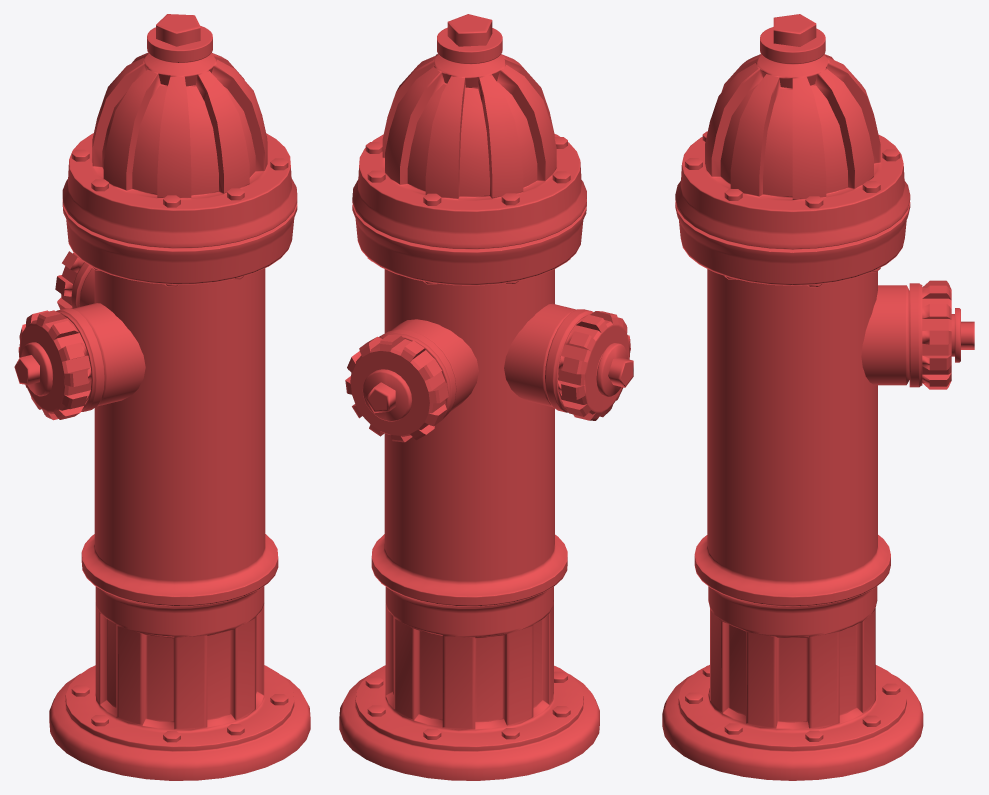
Rendered from FireHydrant.fbx.
3 renders of one model, left to right at view 1: azimuth 30°, elevation 25°; view 2: azimuth 150°, elevation 25°; view 3: azimuth 270°, elevation 25°, orthographic.
Parts seen in each view (by area): view 1: Hydrant_LOD0; view 2: Hydrant_LOD0; view 3: Hydrant_LOD0.
Part boxes in pixels (x1,y1,x2,y2): Hydrant_LOD0: (14, 14, 310, 780); Hydrant_LOD0: (339, 14, 633, 780); Hydrant_LOD0: (662, 14, 974, 780).
Size of what is drawn, in the model's own units: 239 by 593 by 239.
